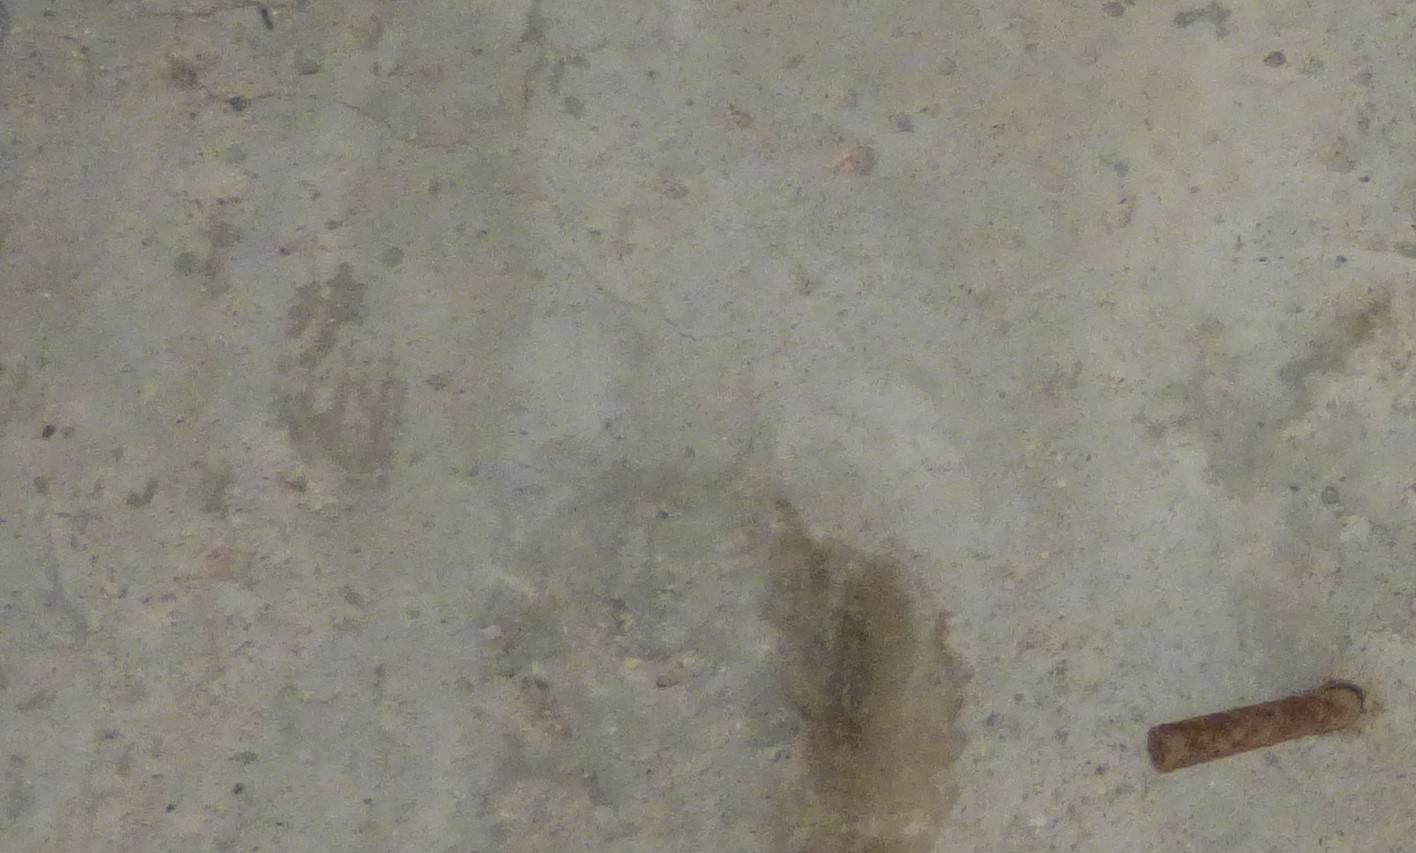Exposed reinforcement: (1146, 686, 1363, 774)
